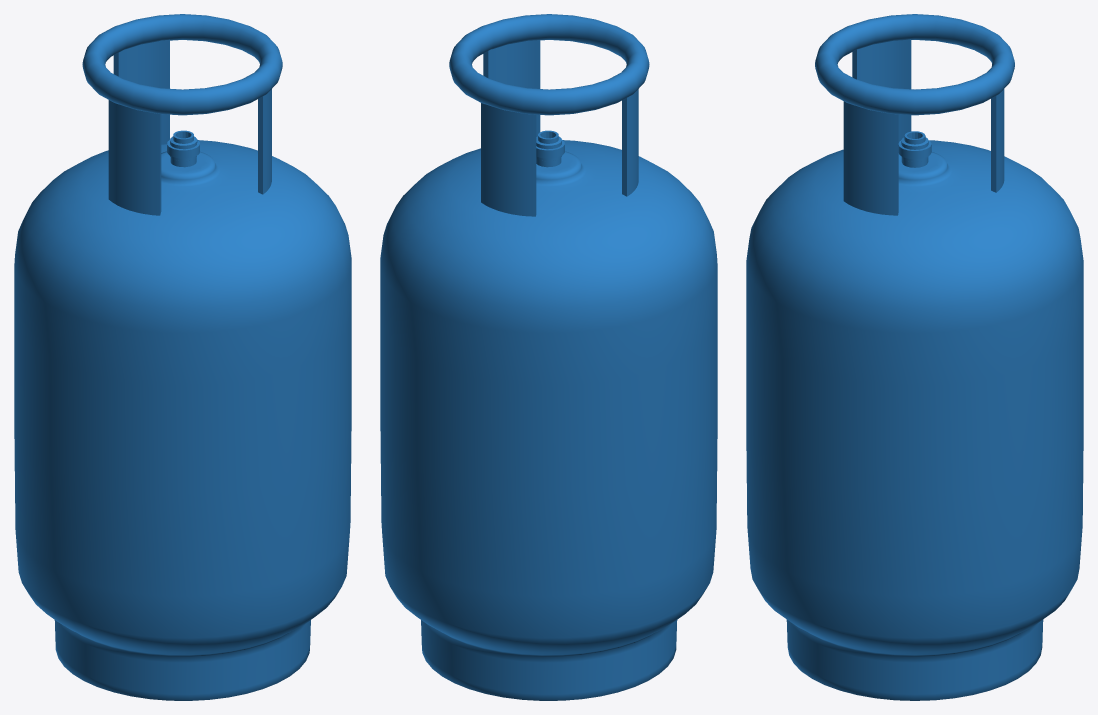
The model's file is OxygenTank 1.fbx.
3 renders of one model, left to right at view 1: azimuth 30°, elevation 25°; view 2: azimuth 150°, elevation 25°; view 3: azimuth 270°, elevation 25°, orthographic.
Visible parts, largest first — view 1: polySurface10.001; view 2: polySurface10.001; view 3: polySurface10.001.
Part boxes in pixels (left/top/right/bottom): polySurface10.001: left=14, top=14, right=351, bottom=700; polySurface10.001: left=380, top=14, right=717, bottom=700; polySurface10.001: left=746, top=14, right=1083, bottom=700.
Bounding box in the file's own units: 138 × 268 × 138.
